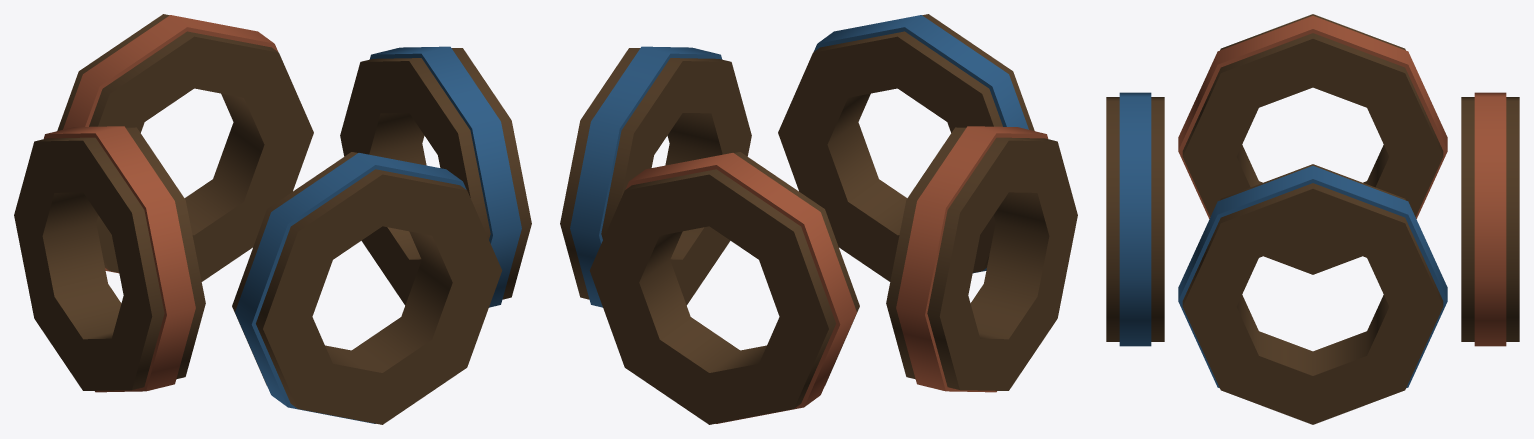
File: rcs4_coil.obj
3 views of the same model, side by side, from view 1: azimuth 30°, elevation 25°; view 2: azimuth 150°, elevation 25°; view 3: azimuth 270°, elevation 25° (orthographic). The views are drawn at different scales.
Visible parts, largest first — view 1: rcs4_coil; view 2: rcs4_coil; view 3: rcs4_coil.
Part boxes in pixels (bbox=[...]): rcs4_coil: bbox=[14, 14, 531, 424]; rcs4_coil: bbox=[560, 14, 1077, 424]; rcs4_coil: bbox=[1106, 14, 1519, 424].
Bounding box in the file's own units: 0.92 × 0.6 × 0.92.
